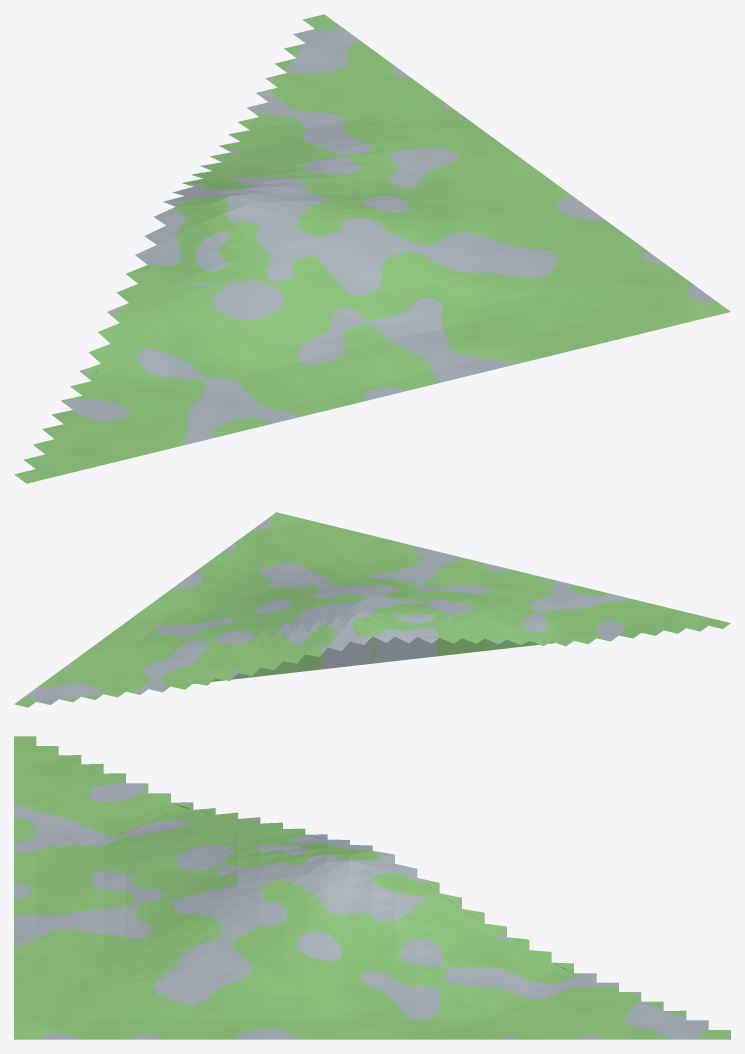
The model's file is Grass_RockyGround_02_NE.obj.
3 renders of one model, top to bottom at view 1: azimuth 30°, elevation 25°; view 2: azimuth 150°, elevation 25°; view 3: azimuth 270°, elevation 25°, orthographic. The views are drawn at different scales.
Size of the model in its own units: 10 by 0.7038 by 10.
1 material, 1 textured.
